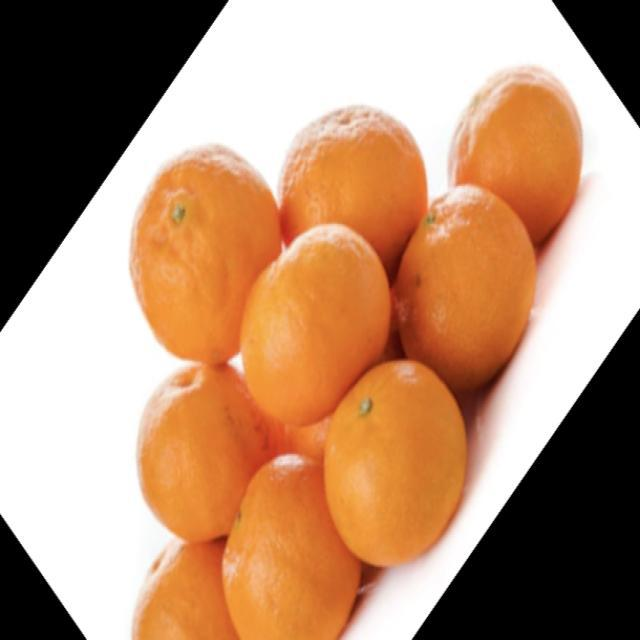Orange: (129, 142, 282, 364), (239, 222, 392, 426), (322, 358, 468, 567), (392, 183, 537, 392), (277, 103, 428, 280), (220, 452, 361, 639), (135, 362, 274, 543), (446, 64, 583, 246), (131, 537, 242, 639)
